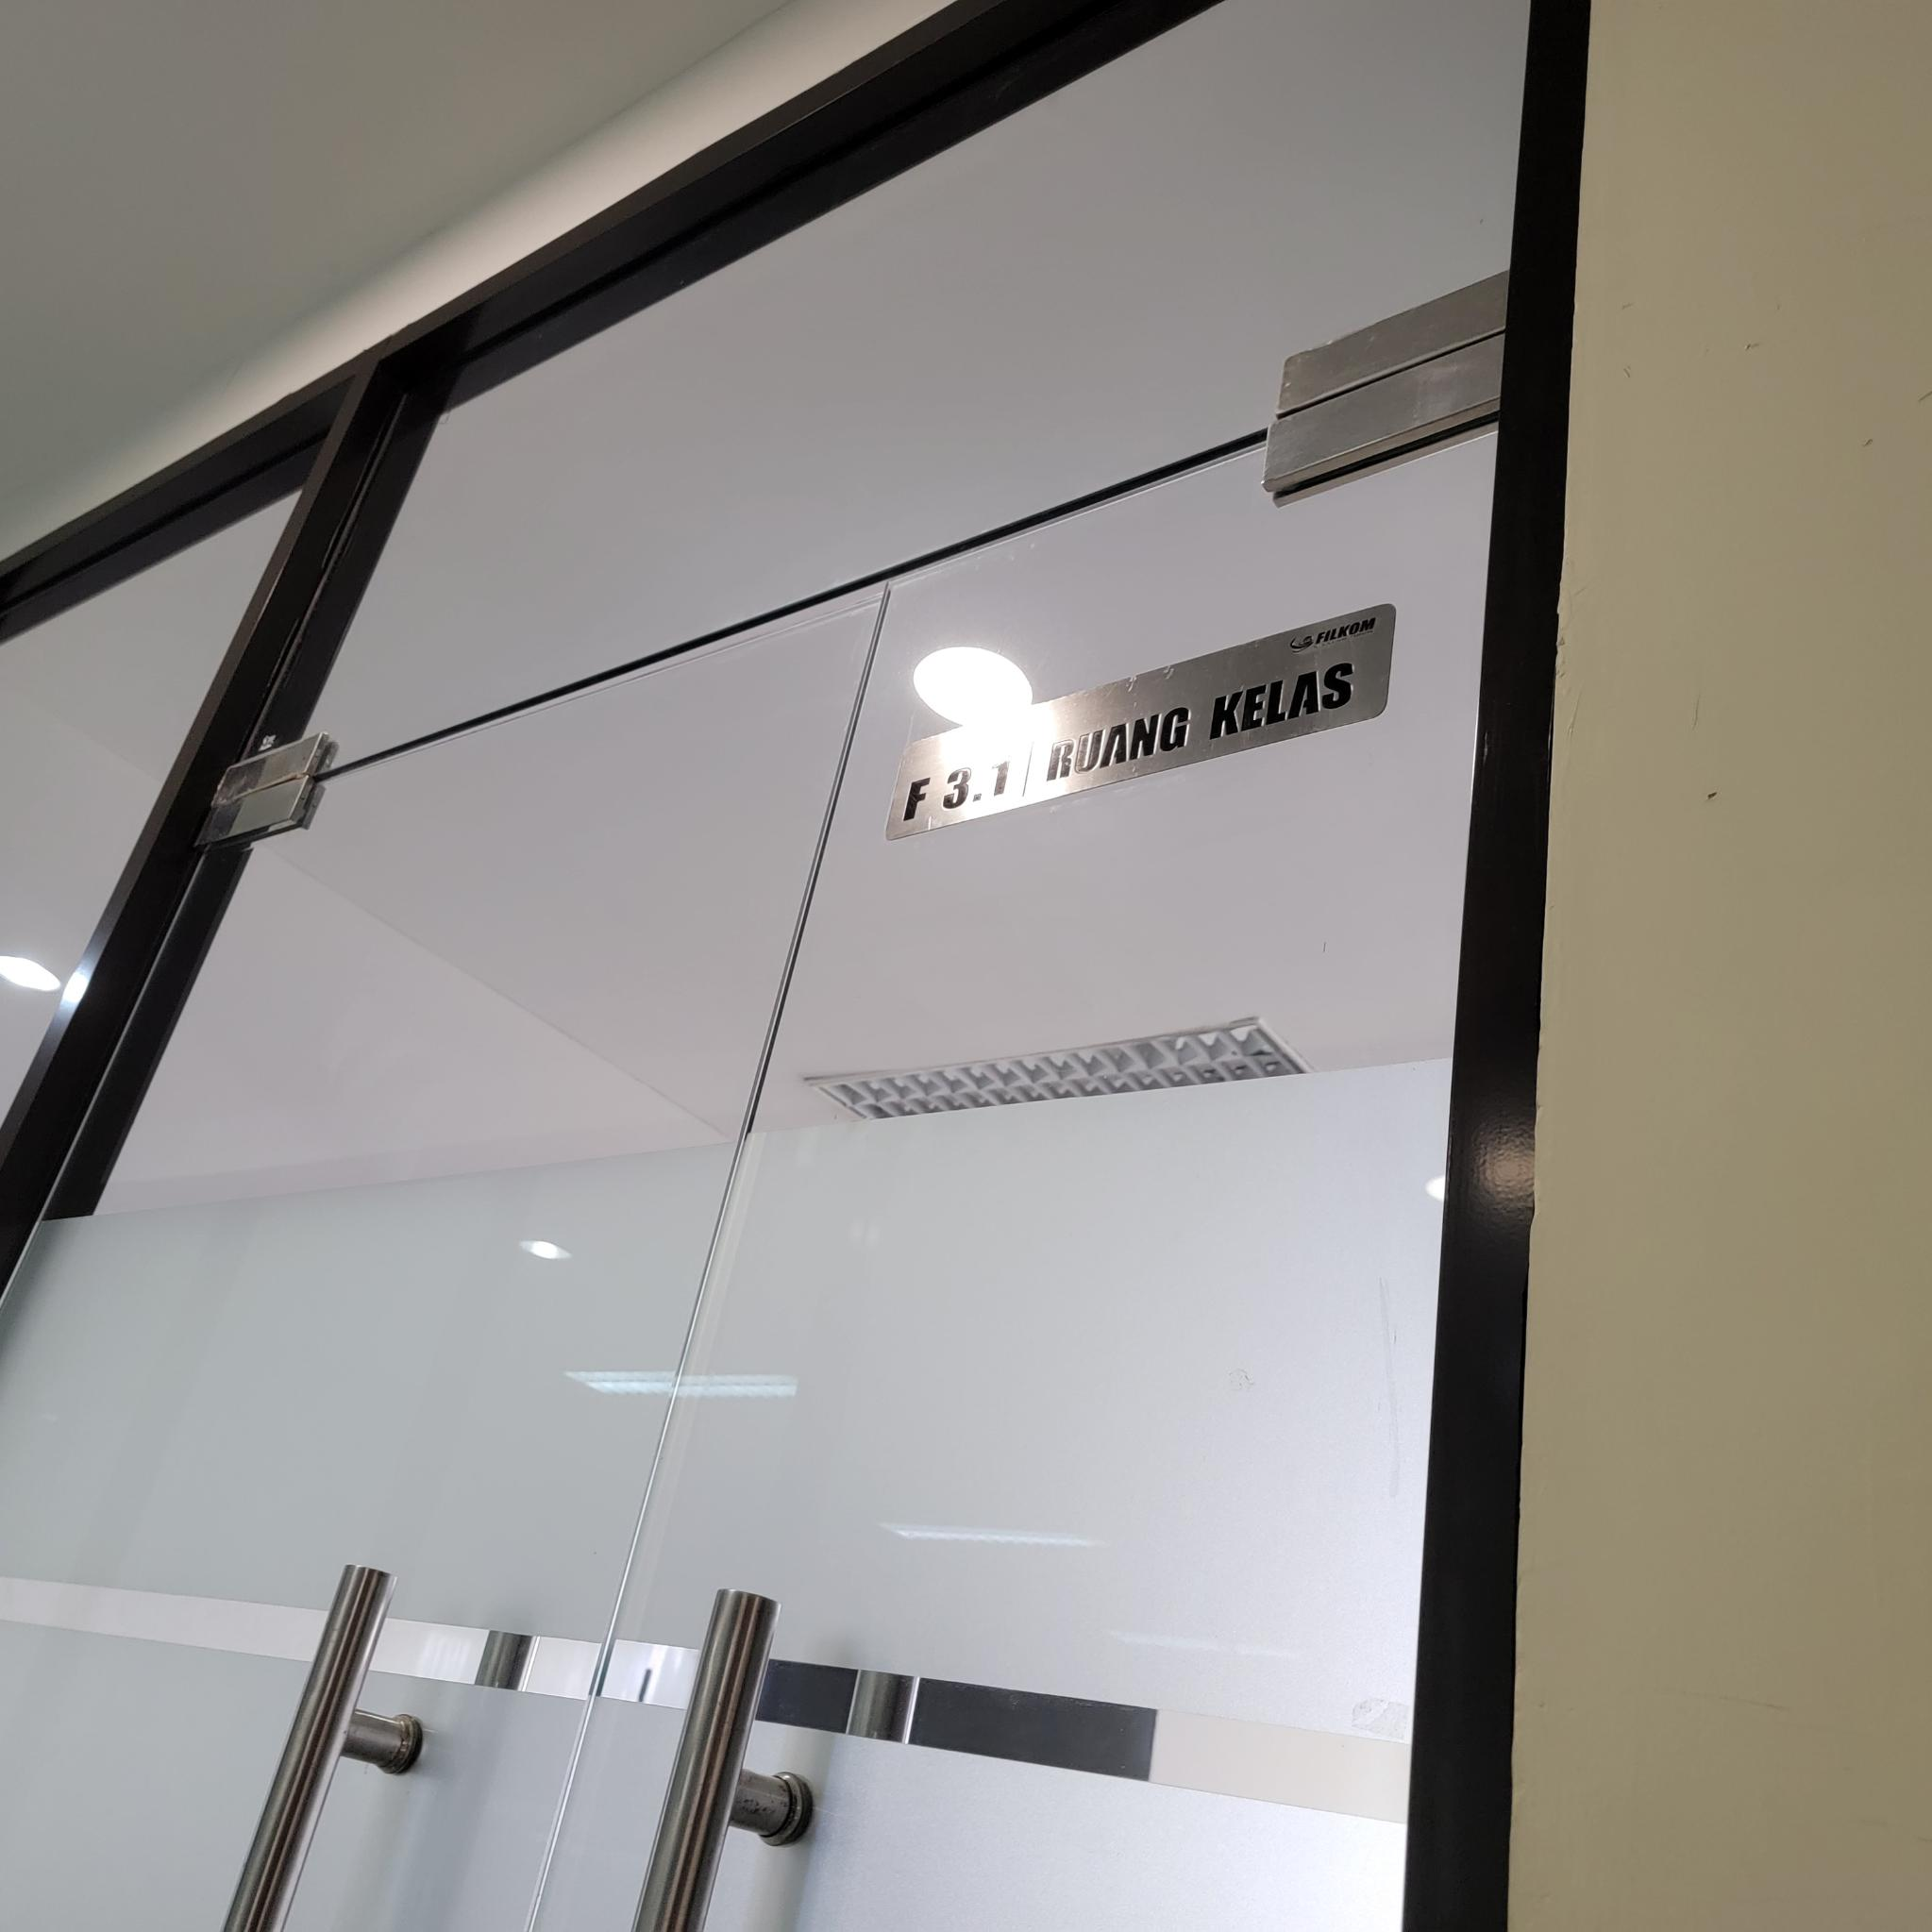plate: (886, 603, 1396, 840)
